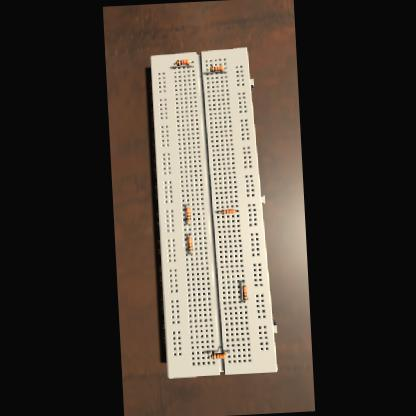breadboard: (149, 45, 278, 376)
resistor: (210, 351, 225, 358), (209, 64, 222, 71), (184, 206, 190, 220), (186, 236, 192, 250), (175, 58, 188, 64), (242, 284, 247, 298), (220, 208, 234, 212)
wire: (206, 68, 210, 74), (189, 60, 192, 66), (207, 349, 210, 355), (172, 62, 174, 68), (226, 348, 228, 354), (242, 279, 244, 284), (223, 66, 224, 72), (186, 203, 188, 205), (187, 219, 188, 223), (189, 232, 190, 236), (190, 250, 191, 254), (216, 210, 220, 211), (244, 299, 245, 301)
